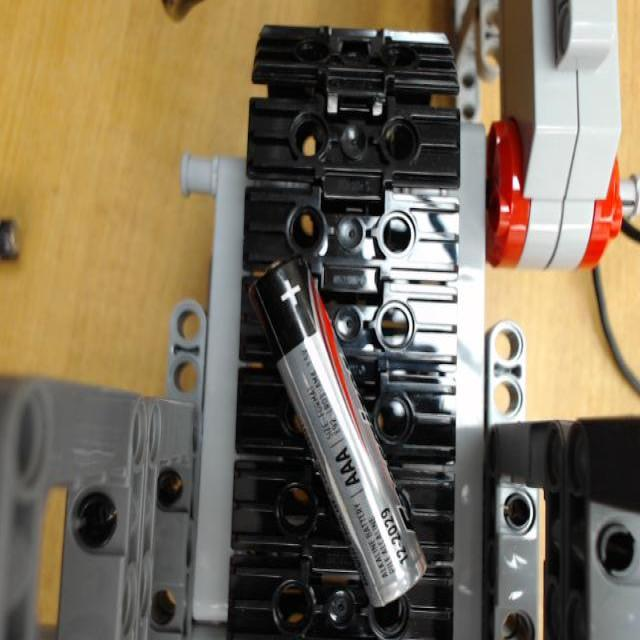AAA: (251, 254, 430, 606)
